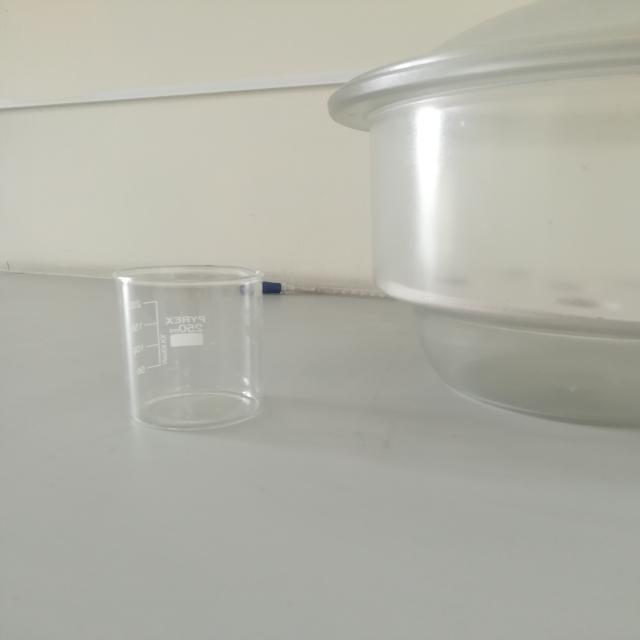Beaker: (76, 241, 318, 457)
